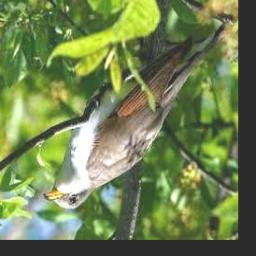Cuckoo: (44, 37, 204, 210)
